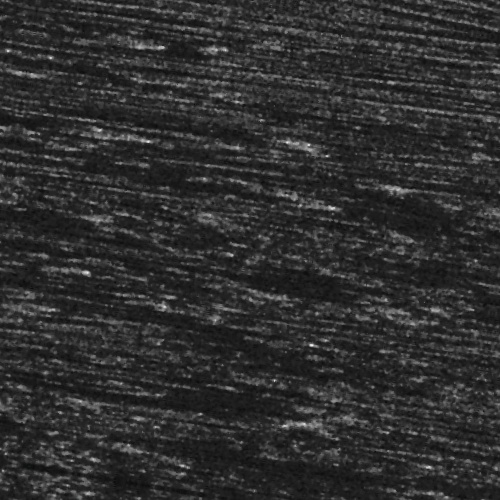object: (219, 405, 386, 420), (40, 56, 175, 67), (18, 148, 143, 159), (0, 330, 85, 345), (271, 186, 334, 197), (0, 173, 68, 182), (228, 128, 269, 137)
shadow: (43, 405, 303, 420), (59, 186, 302, 197), (4, 128, 248, 137), (404, 55, 500, 68), (0, 56, 107, 67), (352, 149, 500, 156), (0, 148, 80, 159), (0, 330, 32, 345), (0, 173, 21, 182), (473, 319, 500, 326)
